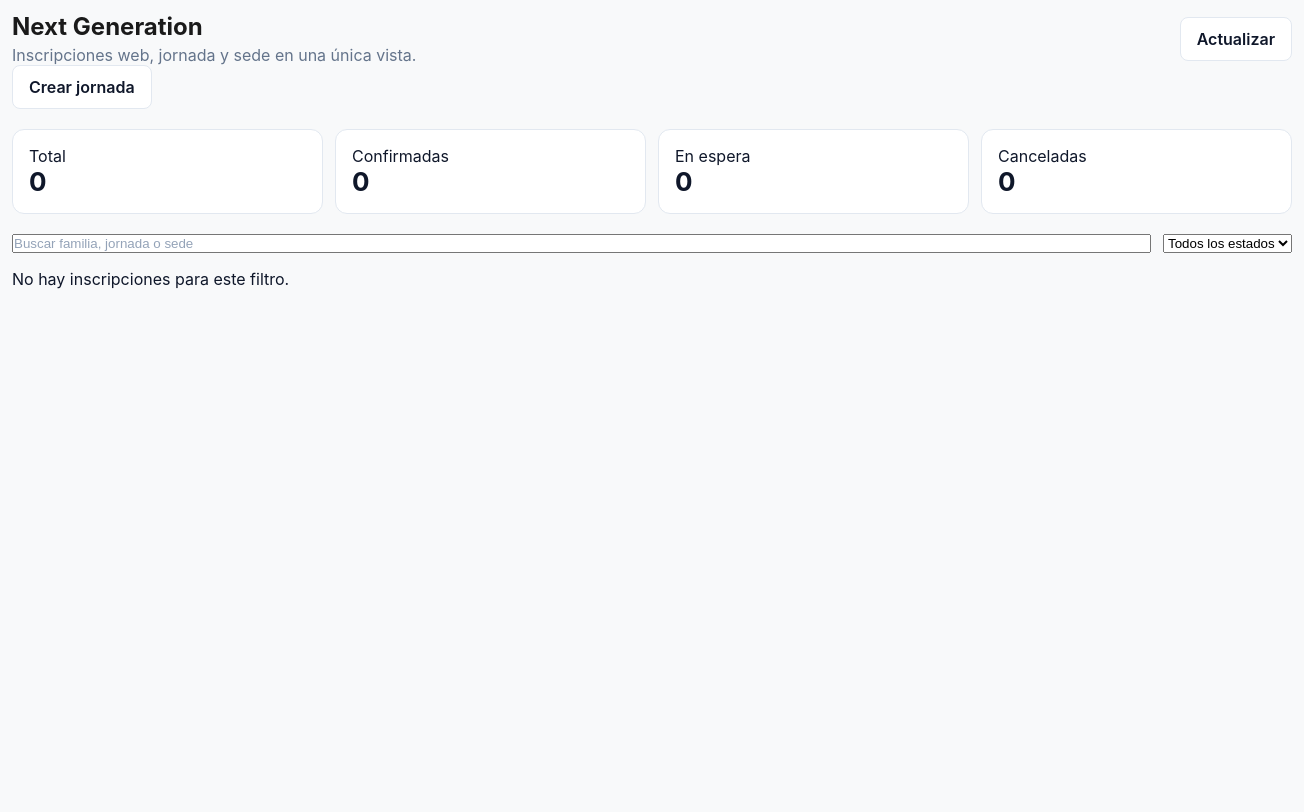
Test case: club limita selector y payload a su propia sede
Expected: the button "Actualizar" is shown, left=1180, top=16, right=1292, bottom=60
Click the button "Crear jornada" at (82, 87), box left=12, top=65, right=152, bottom=109
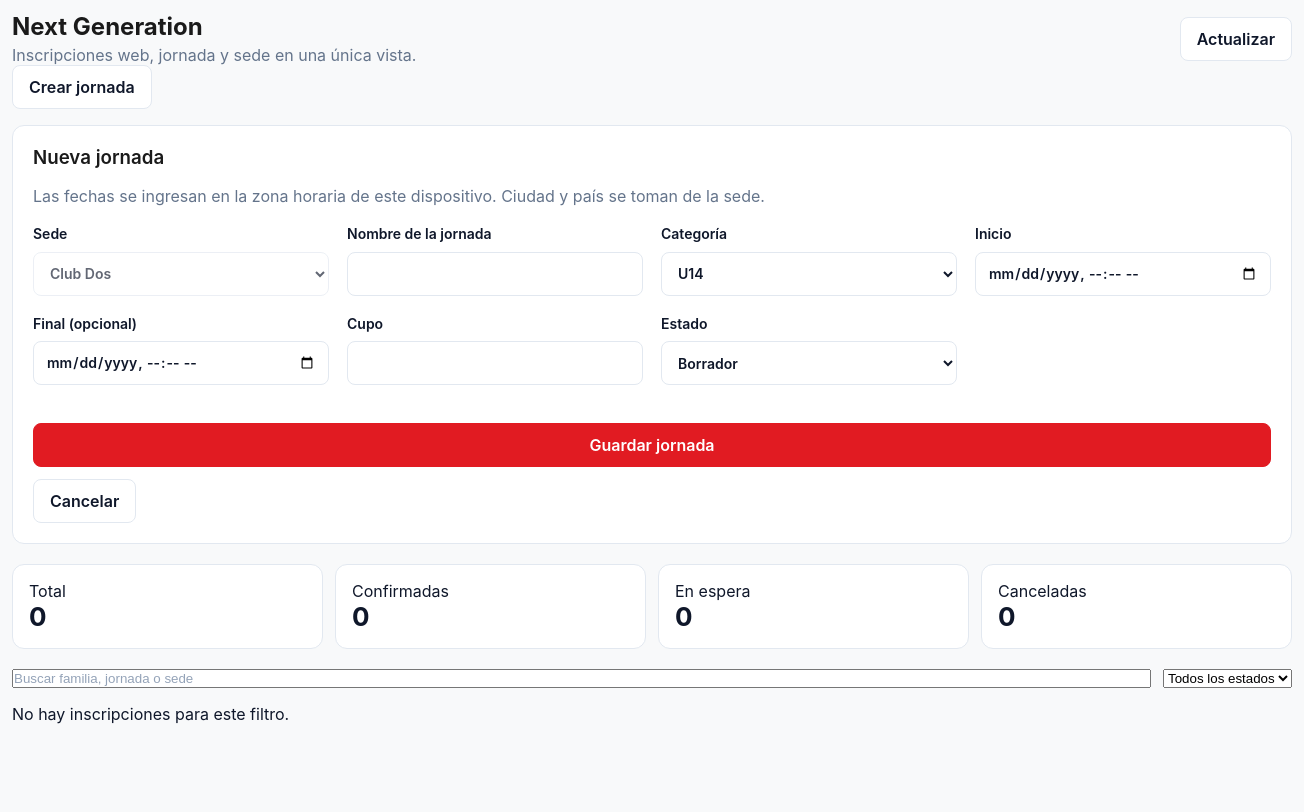
Now the dropdown labelled "Sede" is disabled, box left=33, top=252, right=329, bottom=296
Type "Jornada club" into the field labelled "Nombre de la jornada" at (495, 274), box left=347, top=252, right=643, bottom=296
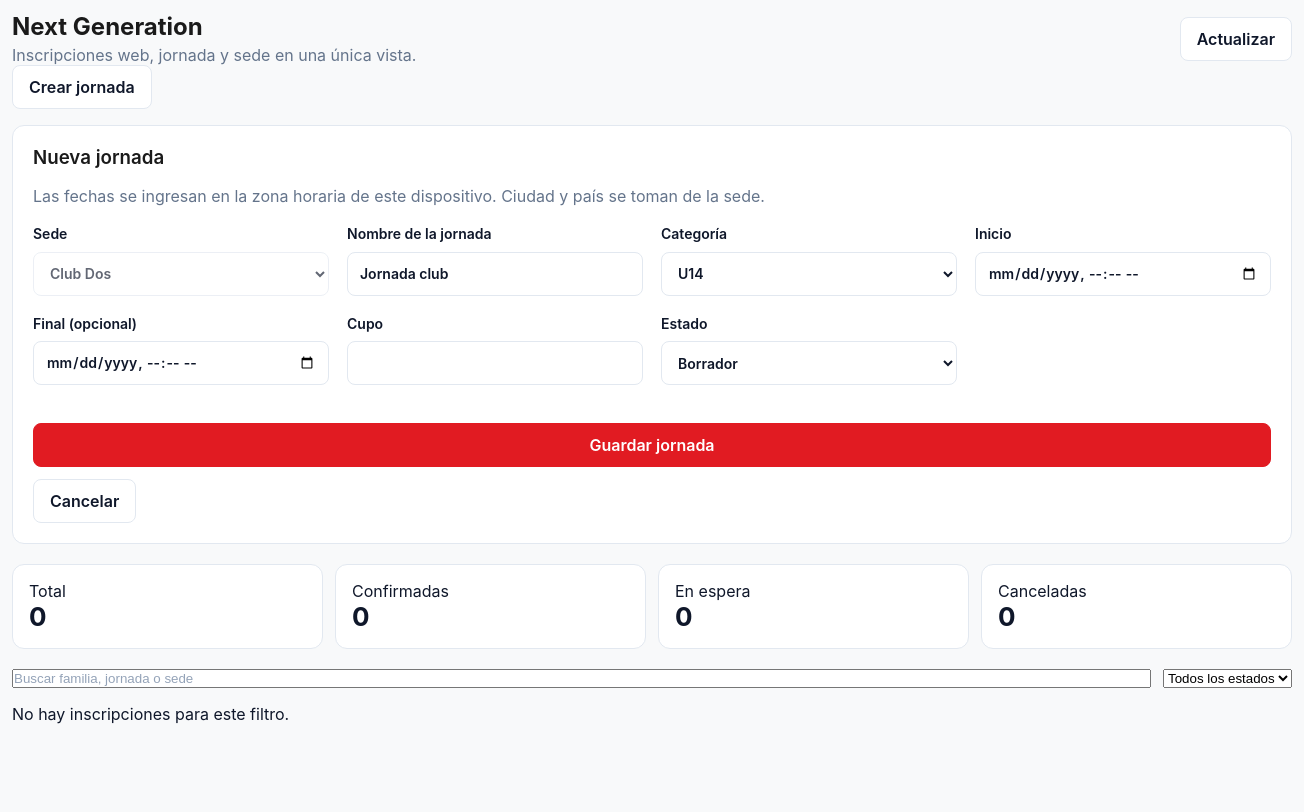
Type "2026-11-10T14:00" into the field labelled "Inicio" at (1123, 274), box left=975, top=252, right=1271, bottom=296
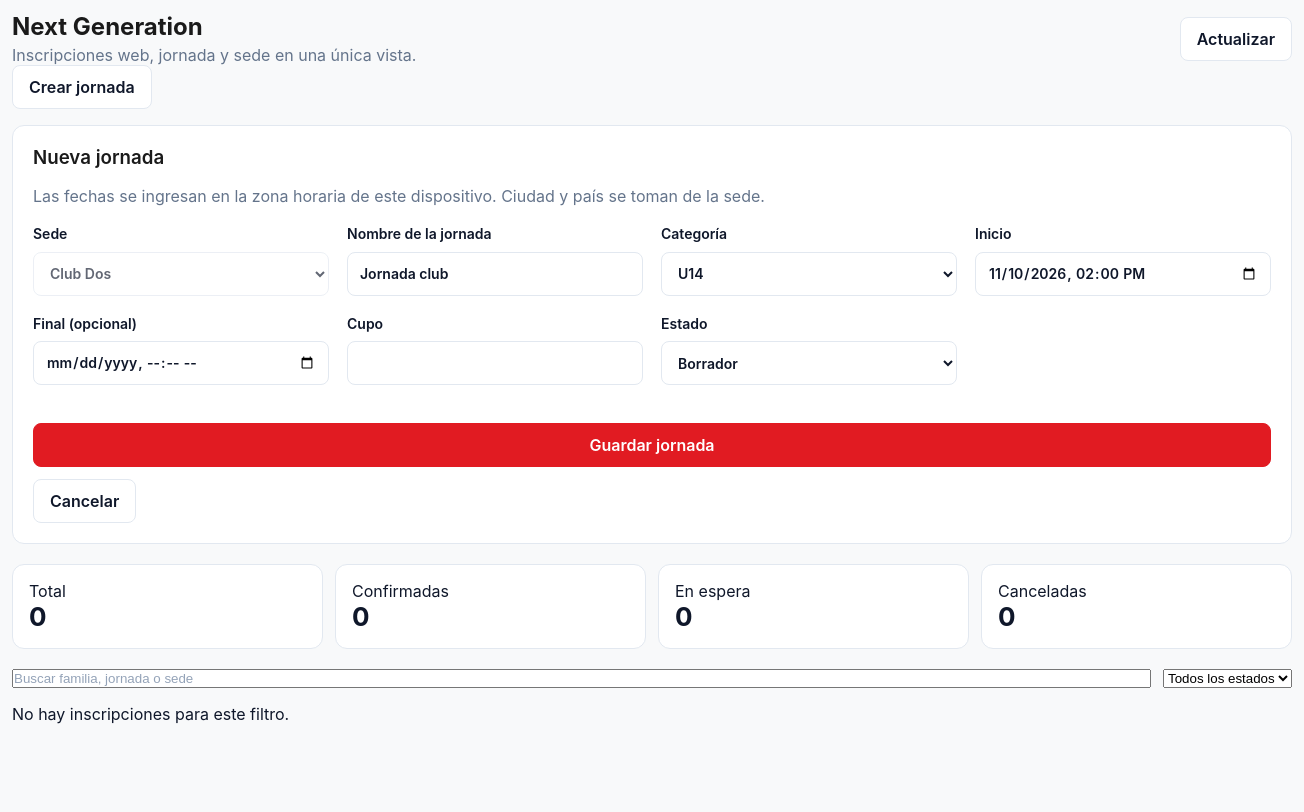
Type "12" into the number field labelled "Cupo" at (495, 363), box left=347, top=341, right=643, bottom=385
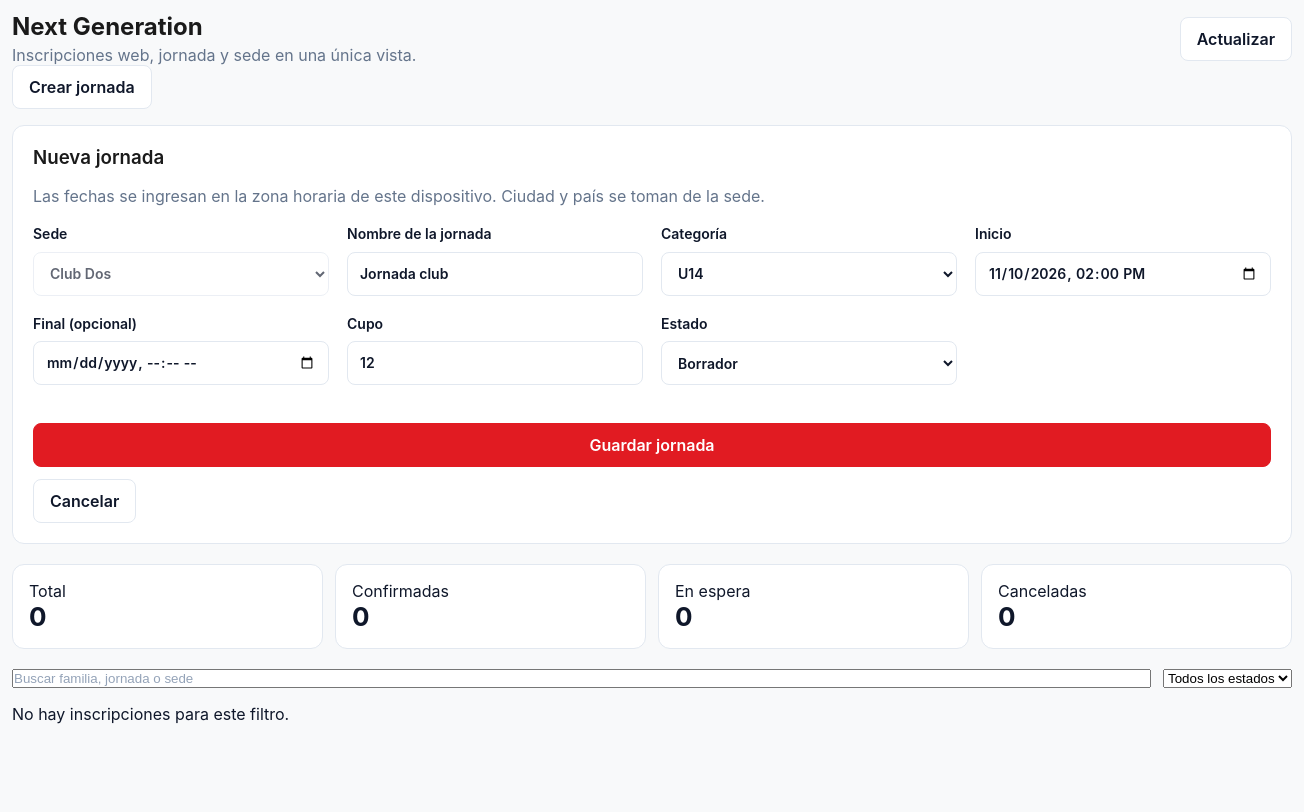
Submit the form, box left=12, top=125, right=1292, bottom=544
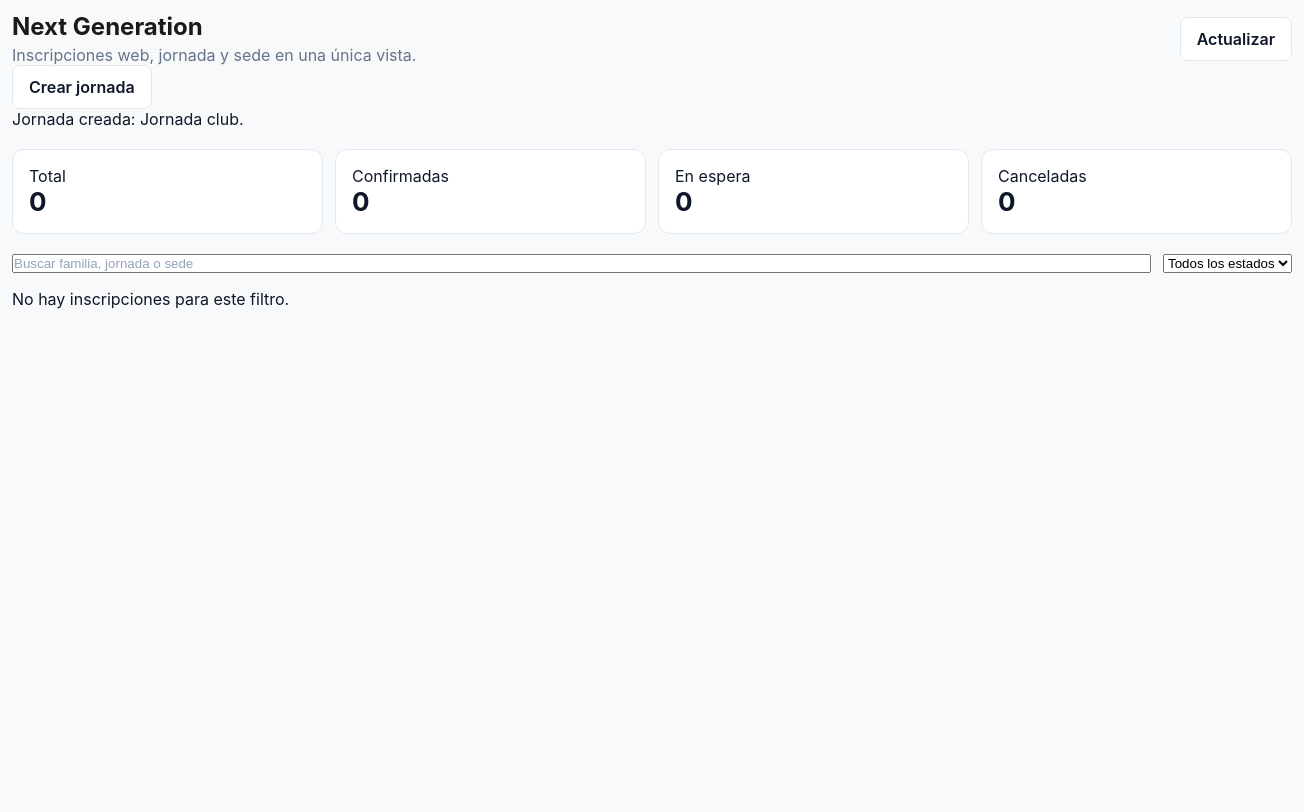
Now the message "Jornada creada: Jornada club." is shown, box left=12, top=109, right=244, bottom=129
